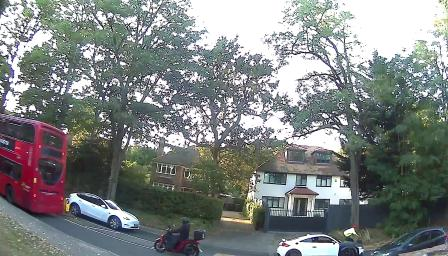Cars: (70, 192, 142, 237), (282, 220, 366, 256), (154, 210, 217, 253), (382, 228, 447, 254)
bus: (5, 115, 68, 216)
